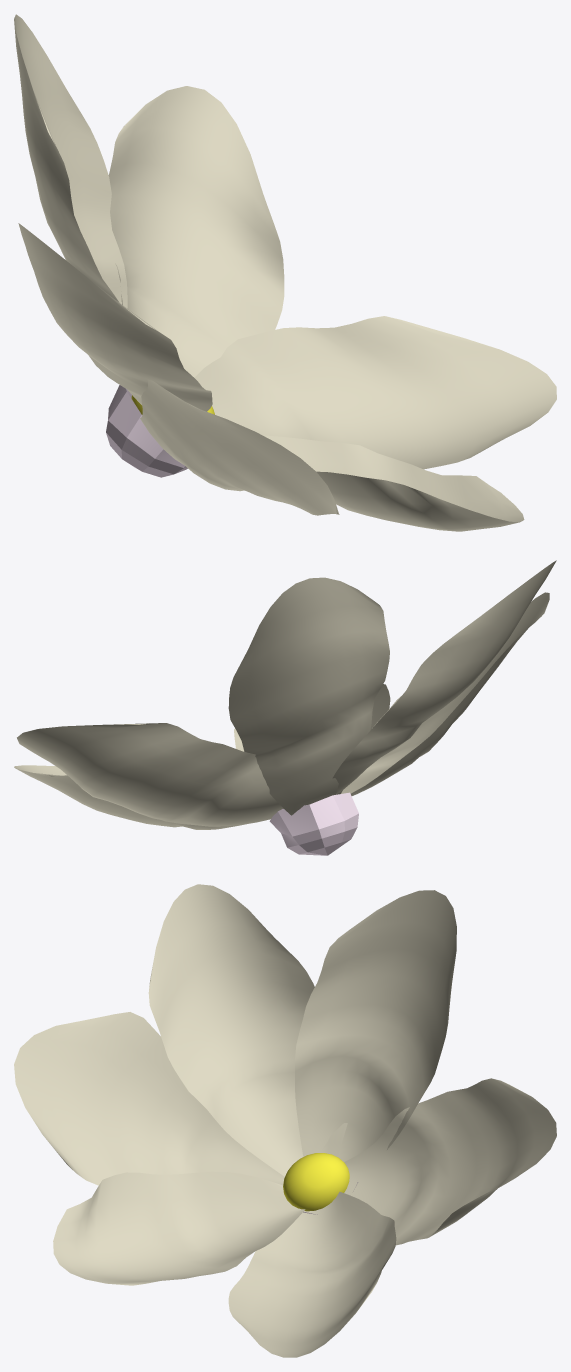
3 views of the same model, one above another, from view 1: azimuth 30°, elevation 25°; view 2: azimuth 150°, elevation 25°; view 3: azimuth 270°, elevation 25° (orthographic). The views are drawn at different scales.
Visible parts, largest first — view 1: cec4f820; view 2: cec4f820; view 3: cec4f820.
Part boxes in pixels (left/top/right/bottom): cec4f820: left=14, top=14, right=556, bottom=531; cec4f820: left=14, top=560, right=556, bottom=855; cec4f820: left=14, top=884, right=556, bottom=1357.
Bounding box in the file's own units: 0.0784 × 0.0547 × 0.0838.
